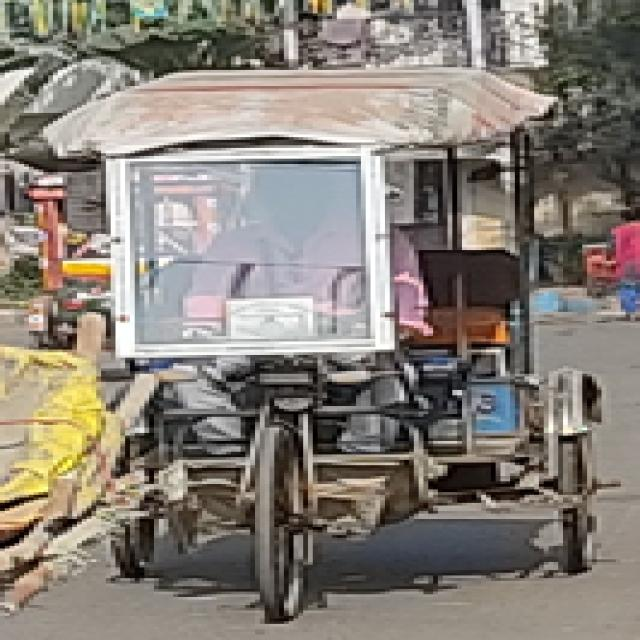rickshaw: (28, 54, 620, 640)
